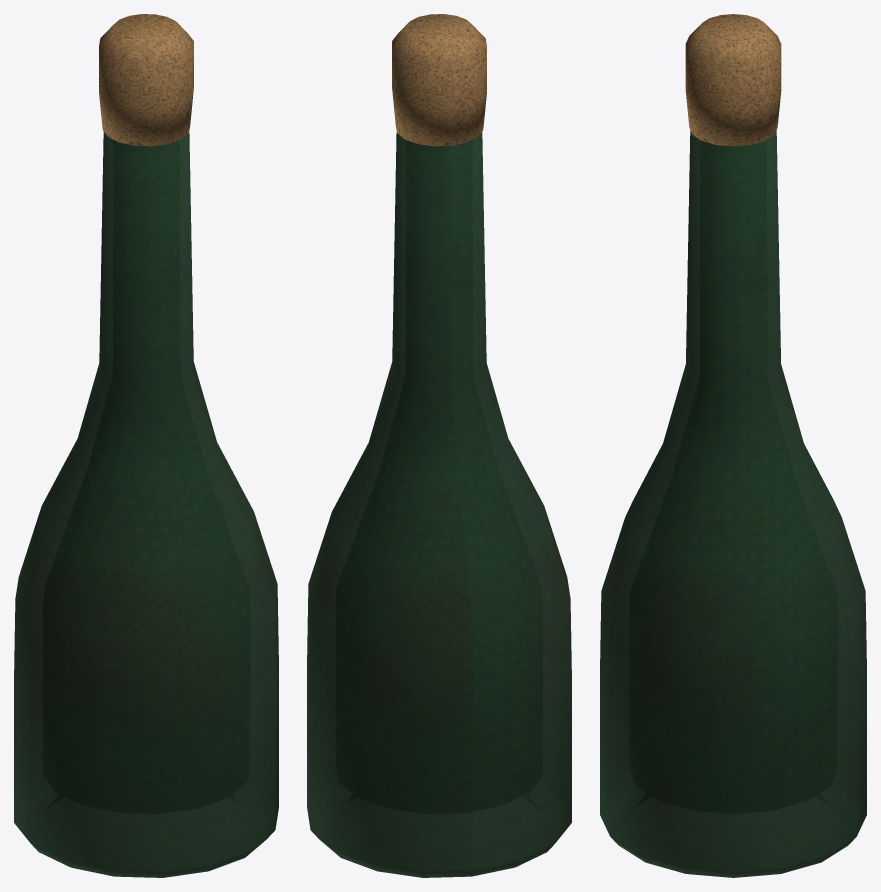
Rendered from BottleChampagneCorked.fbx.
3 views of the same model, side by side, from view 1: azimuth 30°, elevation 25°; view 2: azimuth 150°, elevation 25°; view 3: azimuth 270°, elevation 25° (orthographic).
Visible parts, largest first — view 1: BottleChampagneCorked, Cork; view 2: BottleChampagneCorked, Cork; view 3: BottleChampagneCorked, Cork.
Part boxes in pixels (x1,y1,x2,y2): BottleChampagneCorked: [14, 132, 278, 877]; Cork: [99, 14, 193, 146]; BottleChampagneCorked: [307, 132, 571, 877]; Cork: [392, 14, 486, 146]; BottleChampagneCorked: [600, 130, 866, 877]; Cork: [685, 14, 781, 146].
Bounding box in the file's own units: 0.164 × 0.5404 × 0.164.
2 materials, 2 textured.
